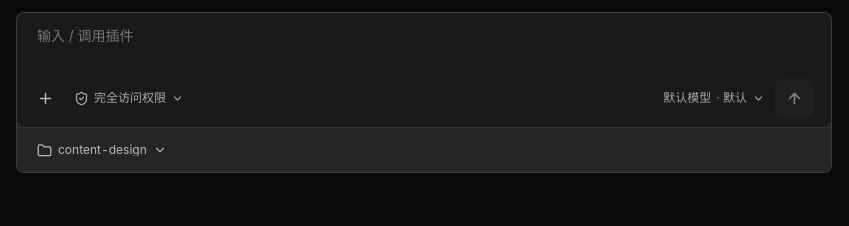
Composer › filters skills from the first typed character and selects the active command with Enter
This screenshot has width=849, height=226.
Type "/z" into the text box named "输入任务" at (424, 47), box x1=35 y1=23 x2=813 y2=71
(page scrolled)
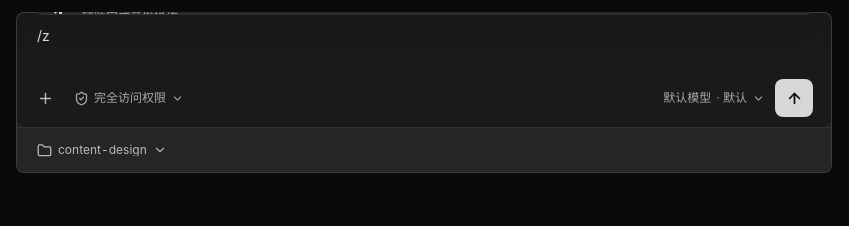
Press Enter
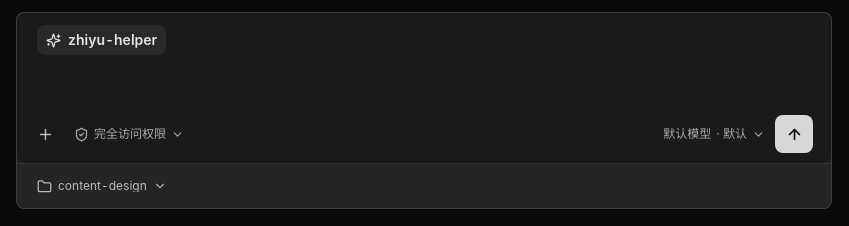
Result: the element named "已选择技能 zhiyu-helper" is shown at x1=37 y1=25 x2=166 y2=55
Result: the text box named "输入任务" is empty at x1=35 y1=23 x2=813 y2=107
